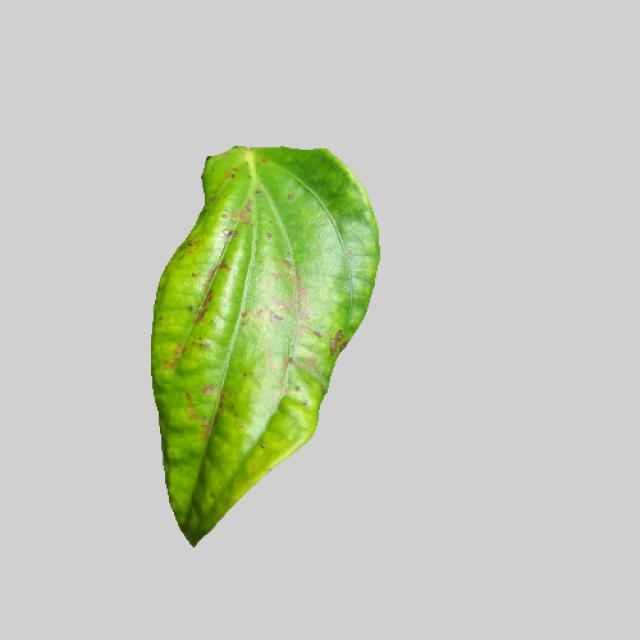yellow-mottle-virus: (142, 147, 384, 543)
